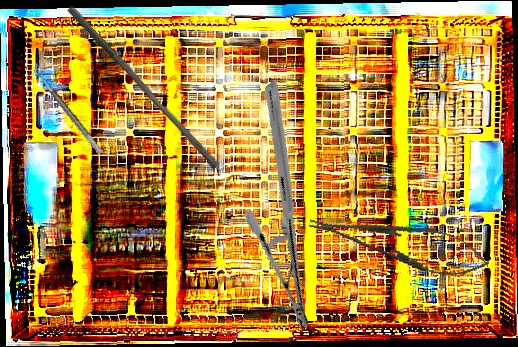Fixation Ring: (30, 58, 111, 156)
Needle Holder: (168, 79, 407, 333), (304, 200, 494, 286)
Pusher: (60, 5, 226, 170)
